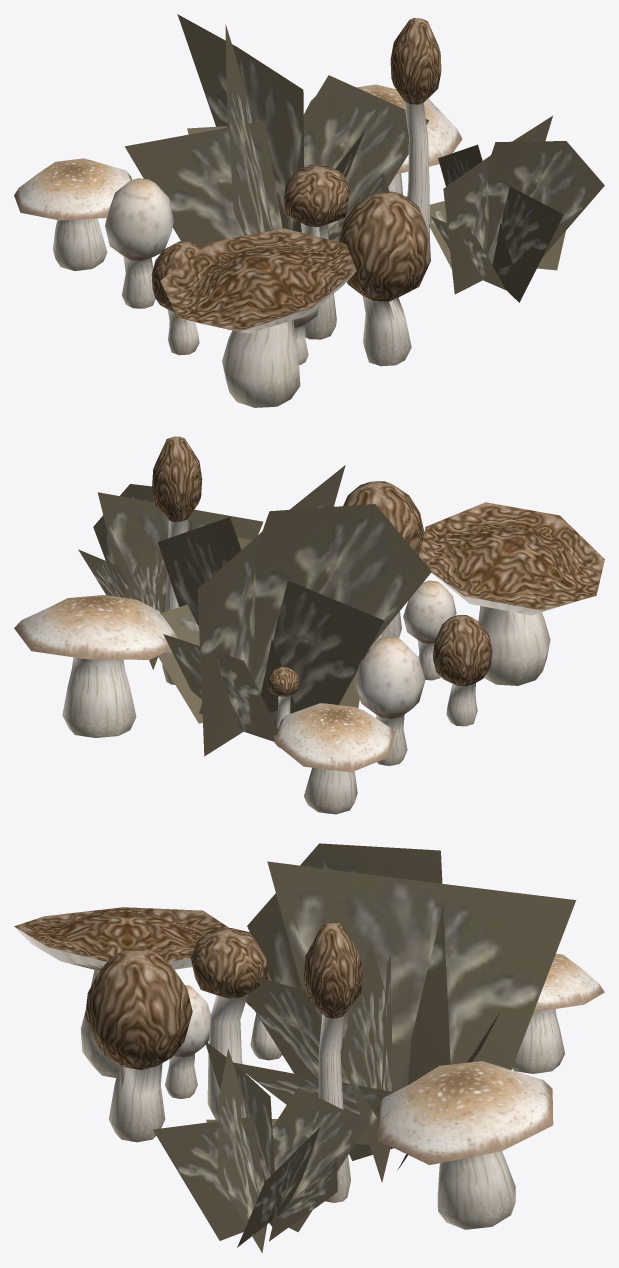
The model's file is pir_m_prp_cav_mushroomGroup_2.fbx.
3 views of the same model, one above another, from view 1: azimuth 30°, elevation 25°; view 2: azimuth 150°, elevation 25°; view 3: azimuth 270°, elevation 25° (orthographic). The views are drawn at different scales.
Parts seen in each view (by area): view 1: mushroom, mushroom2, lod_high, pPlane1.001, pPlane3.001, pPlane2.001, pPlane8.003, mushroom1, top, pPlane8.001, pPlane2.003, pPlane1.003 (+9 smaller); view 2: mushroom, pPlane8.001, pPlane2.001, pPlane1.001, top2, top, lod_high, mushroom1, pPlane3.001, pPlane2.003, stem1, mushroom3 (+11 smaller); view 3: pPlane2.001, lod_high, top2, mushroom2, pPlane8.001, mushroom, pPlane3.001, pPlane1.003, pPlane3.003, stem1, pPlane6.001, pPlane8.003 (+11 smaller).
Boxes of the visible parts, box(x1,y1,x2,y2) form: mushroom: box(160, 228, 356, 407); mushroom2: box(338, 191, 430, 366); lod_high: box(284, 18, 441, 339); pPlane1.001: box(124, 120, 282, 248); pPlane3.001: box(303, 75, 429, 230); pPlane2.001: box(177, 14, 303, 229); pPlane8.003: box(486, 141, 604, 264); mushroom1: box(105, 178, 173, 308); top: box(14, 158, 131, 220); pPlane8.001: box(225, 24, 273, 235); pPlane2.003: box(443, 116, 552, 294); pPlane1.003: box(495, 186, 563, 302); mushroom: box(419, 502, 604, 685); pPlane8.001: box(199, 504, 431, 714); pPlane2.001: box(197, 465, 345, 756); pPlane1.001: box(270, 580, 384, 724); top2: box(14, 595, 178, 659); top: box(274, 703, 395, 772); lod_high: box(152, 436, 392, 748); mushroom1: box(354, 636, 425, 765); pPlane3.001: box(157, 517, 294, 712); pPlane2.003: box(97, 492, 263, 612); stem1: box(62, 657, 136, 737); mushroom3: box(433, 615, 492, 726); pPlane2.001: box(267, 861, 576, 1147); lod_high: box(190, 921, 362, 1202); top2: box(377, 1061, 553, 1164); mushroom2: box(85, 947, 192, 1142); pPlane8.001: box(247, 843, 450, 1160); mushroom: box(14, 907, 229, 1077); pPlane3.001: box(340, 942, 392, 1182); pPlane1.003: box(153, 1117, 292, 1240); pPlane3.003: box(272, 1087, 368, 1232); stem1: box(437, 1151, 515, 1229); pPlane6.001: box(247, 977, 350, 1083); pPlane8.003: box(217, 1049, 267, 1252).
Size of the model in its own units: 1126 by 629 by 1098.
2 materials, 2 textured.
